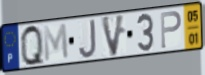3: (136, 11, 155, 53)
J: (77, 18, 97, 60)
M: (42, 22, 71, 64)
P: (159, 10, 183, 50)
Q: (19, 23, 46, 68)
V: (100, 13, 127, 59)
